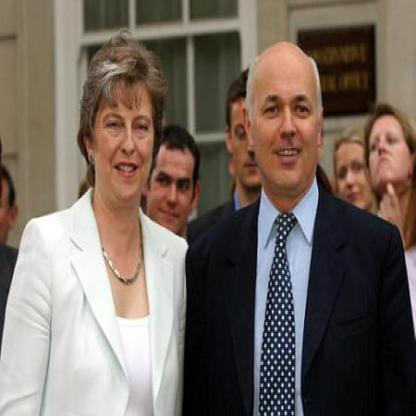face: (253, 47, 321, 192), (95, 54, 156, 204), (150, 132, 198, 240), (230, 81, 274, 189), (367, 111, 412, 194), (337, 136, 376, 217)
